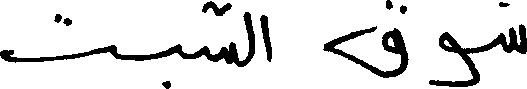X: (325, 0, 406, 82), (0, 9, 111, 67), (432, 27, 477, 88), (206, 0, 235, 68), (501, 0, 526, 58), (244, 7, 253, 70), (263, 10, 269, 66), (174, 39, 180, 60)
